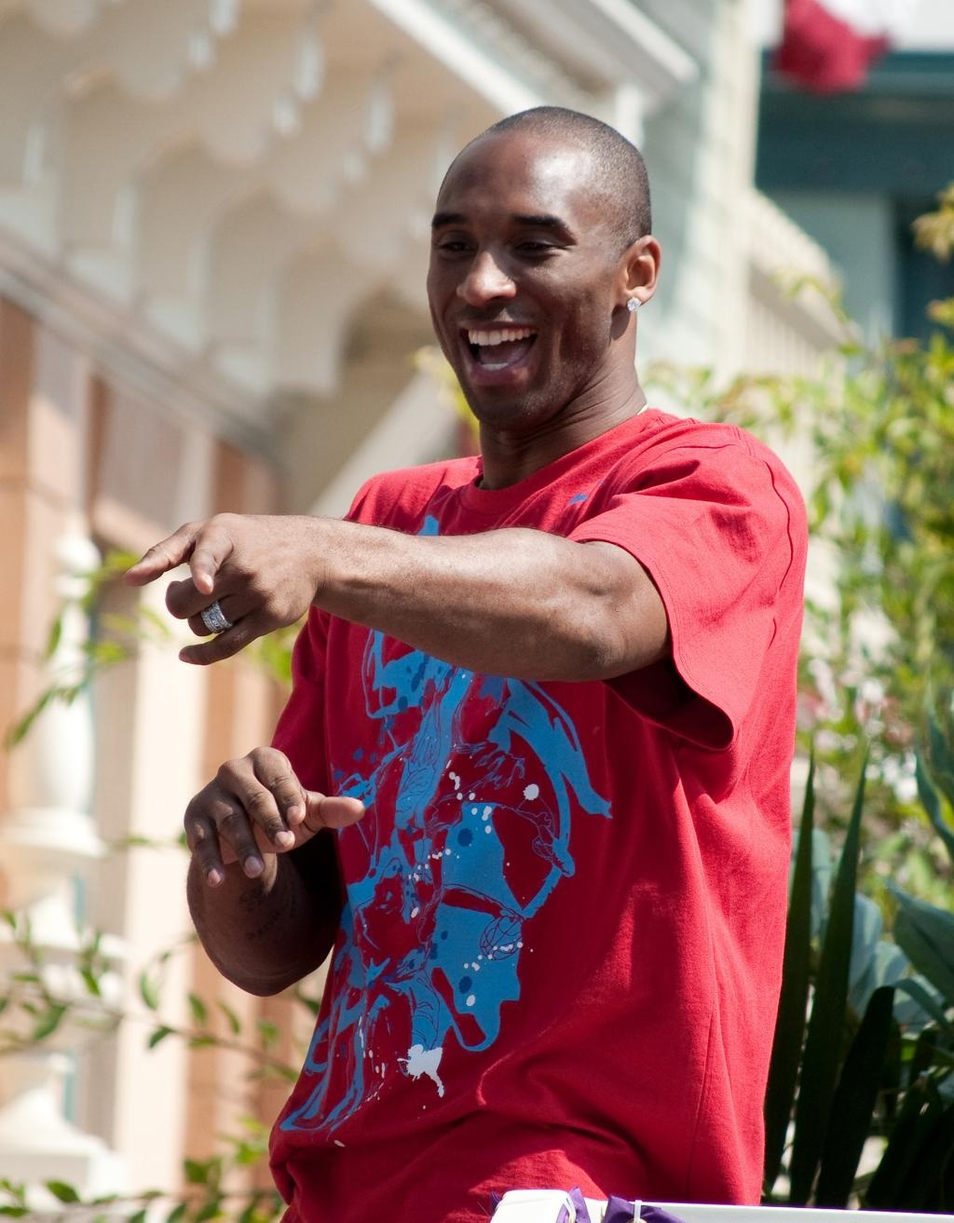human_face: (433, 136, 622, 415)
